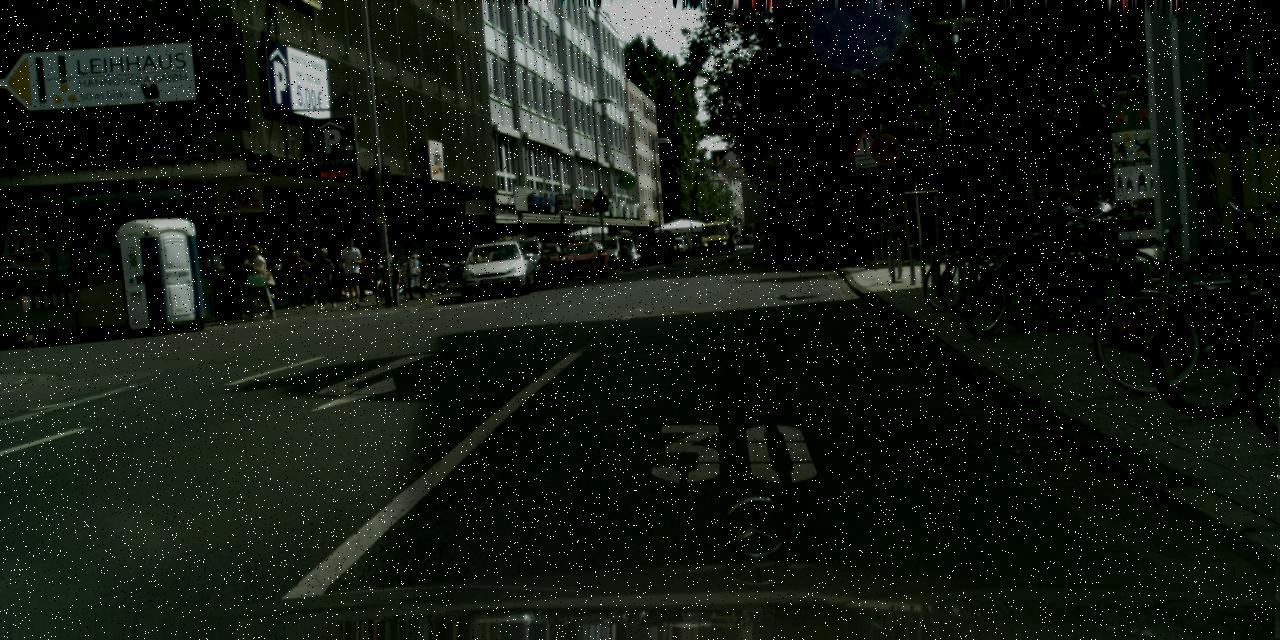ped: (204, 243, 236, 319), (242, 244, 271, 318), (338, 236, 367, 306), (313, 247, 337, 307), (285, 249, 309, 308), (330, 250, 350, 300), (349, 252, 369, 300), (1029, 194, 1047, 240), (1009, 198, 1027, 243), (636, 233, 650, 265), (660, 230, 671, 258)
